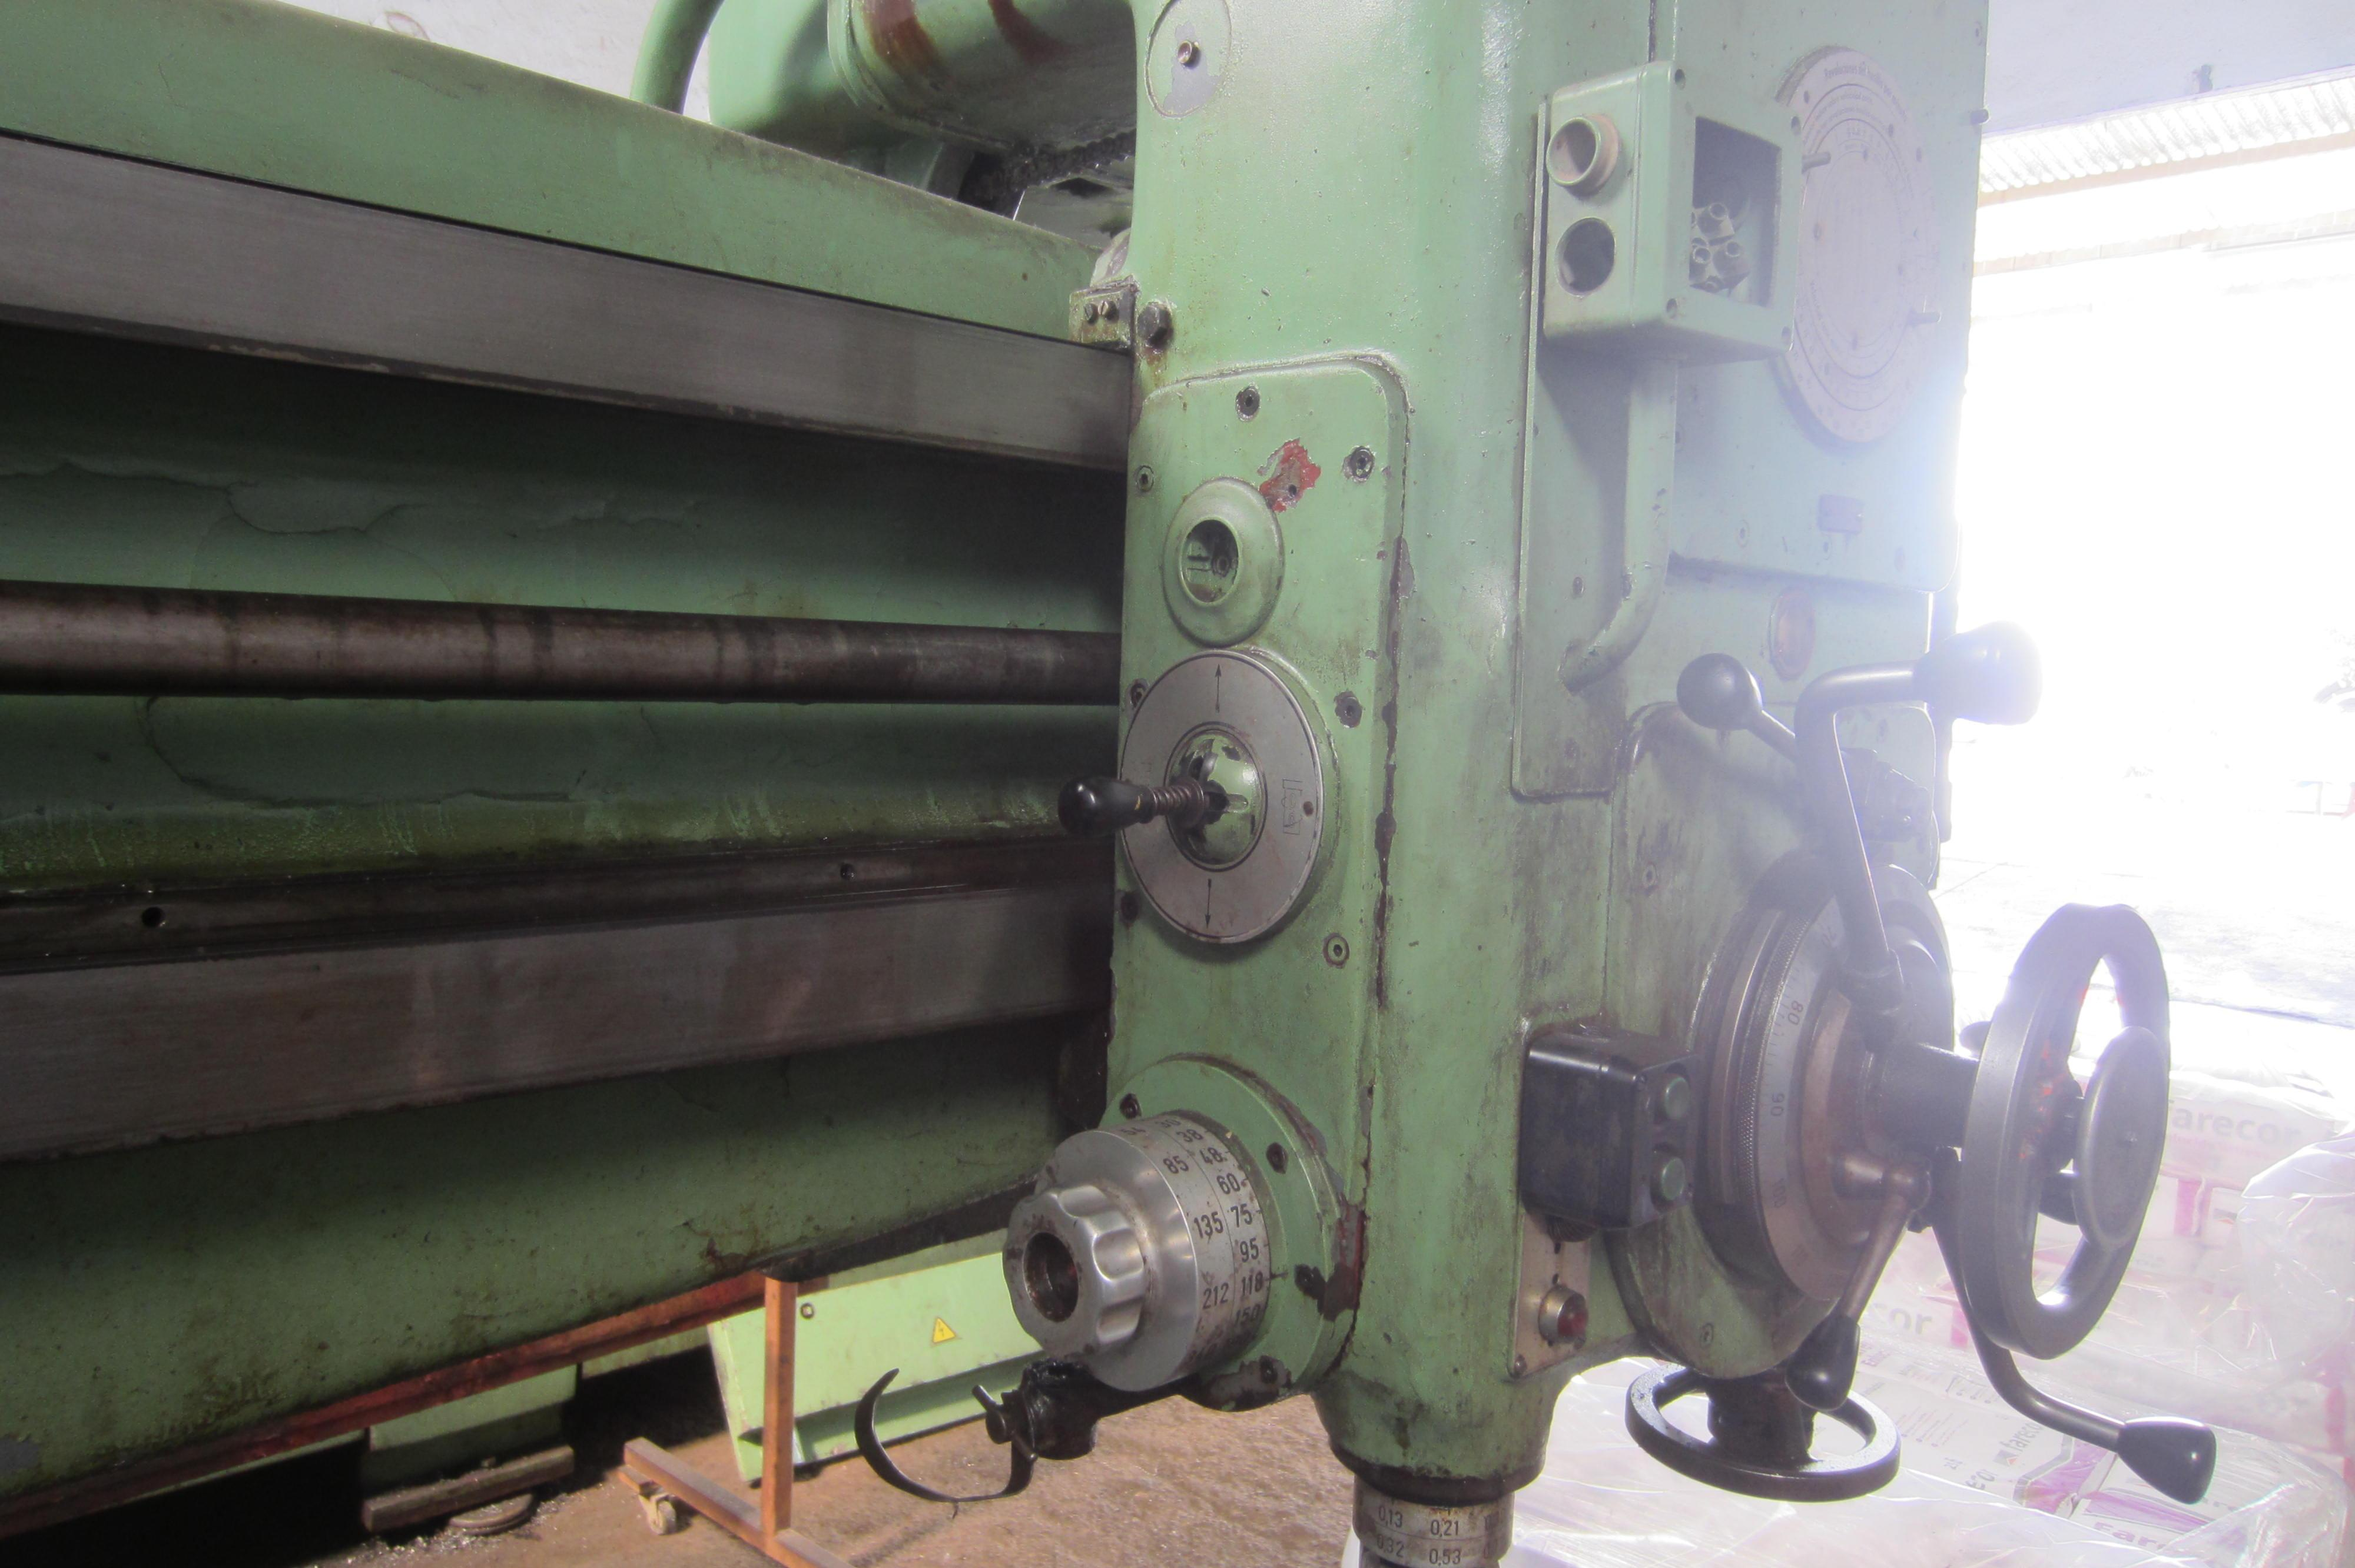falta_resguardo: (1317, 1447, 1540, 1568)
mandos_inseguros: (1505, 1024, 1704, 1232)
sin_senalizacion_riesgos: (1209, 105, 1484, 388)
